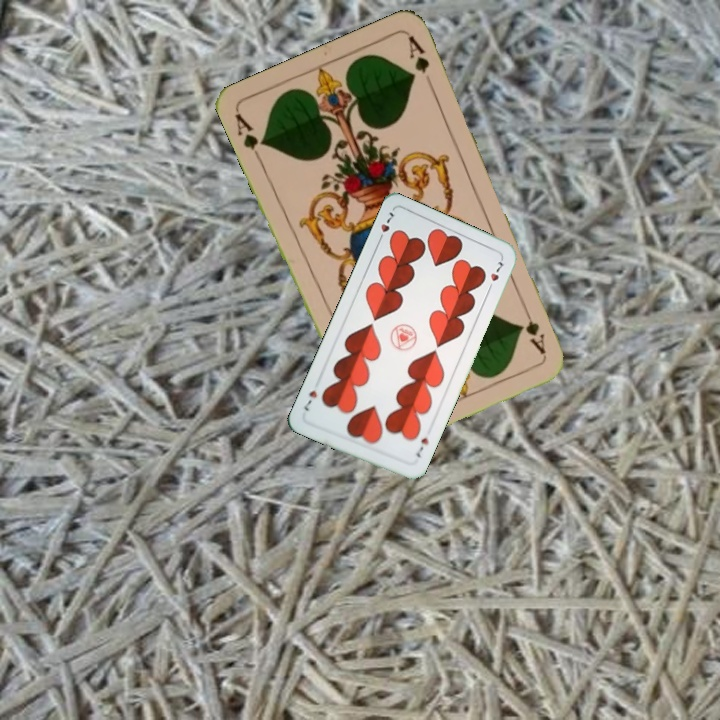GA: (230, 108, 268, 164), (518, 299, 549, 357)
H7: (374, 207, 399, 245), (411, 433, 431, 460)
